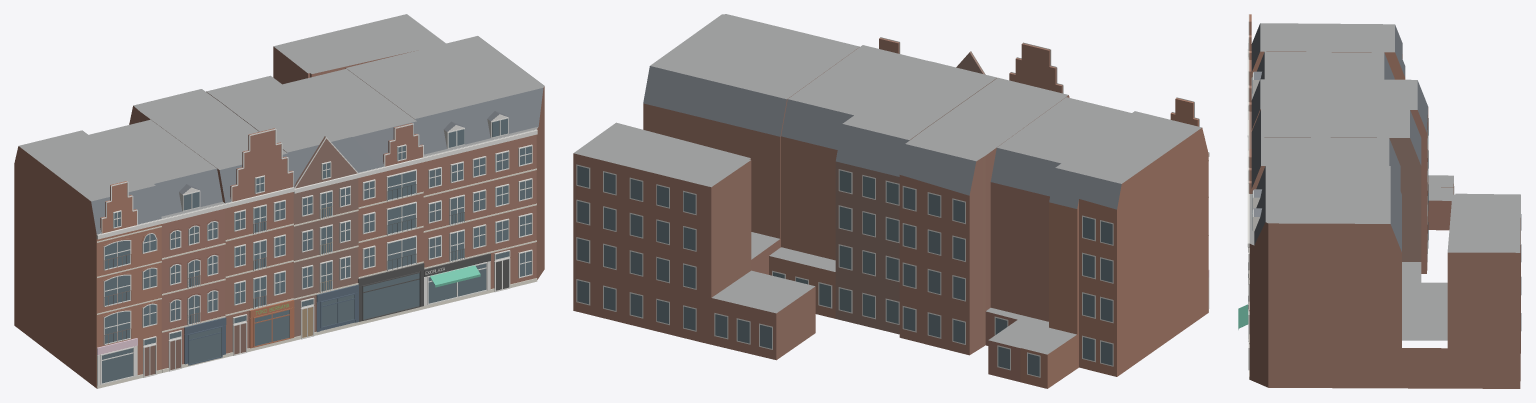
Rendered from chunk-face-bilder-161259-236206.glb.
3 renders of one model, left to right at view 1: azimuth 30°, elevation 25°; view 2: azimuth 150°, elevation 25°; view 3: azimuth 270°, elevation 25°, orthographic. The views are drawn at different scales.
Visible parts, largest first — view 1: face-bilder-161259-236206; view 2: face-bilder-161259-236206; view 3: face-bilder-161259-236206.
Boxes of the visible parts, left/top/right/bottom form: face-bilder-161259-236206: left=14, top=14, right=544, bottom=388; face-bilder-161259-236206: left=573, top=14, right=1209, bottom=388; face-bilder-161259-236206: left=1238, top=14, right=1521, bottom=388.
Size of the model in its own units: 42.45 by 19.05 by 25.16.
